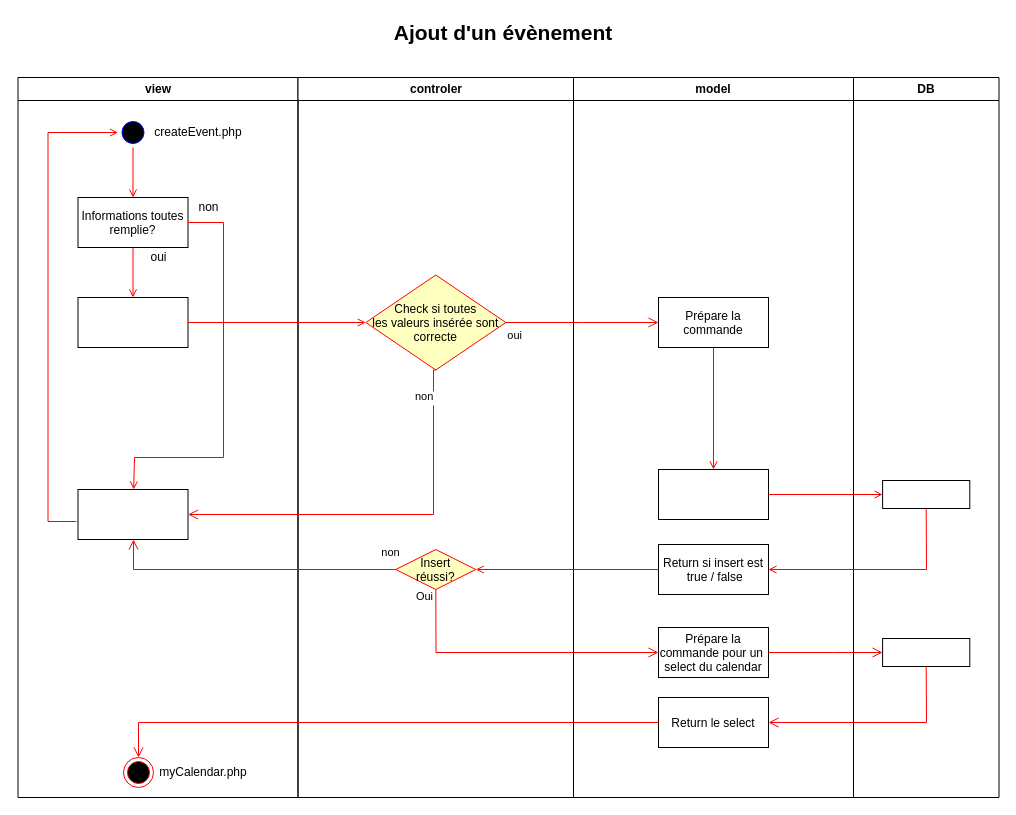
Image size: 1016x815. Some labels were removed from this diagram. The centre of each missing label's shape, as x and y in pixels:
Fait un insert: pixel 926 494
Fait un select: pixel 926 652
Message d'erreur: pixel 132 514
Prépare les données: pixel 713 494
Submit: Crée un évènement: pixel 132 322
